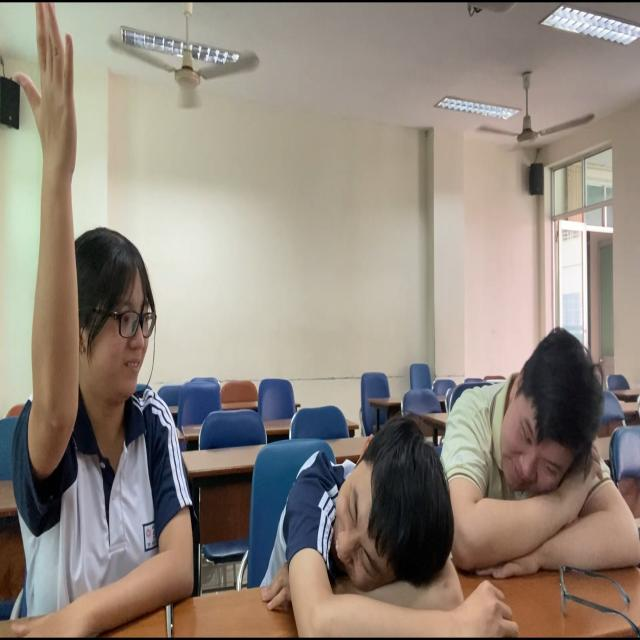raise_hand: (1, 2, 164, 640)
sleep: (421, 324, 640, 590), (248, 414, 482, 640)
